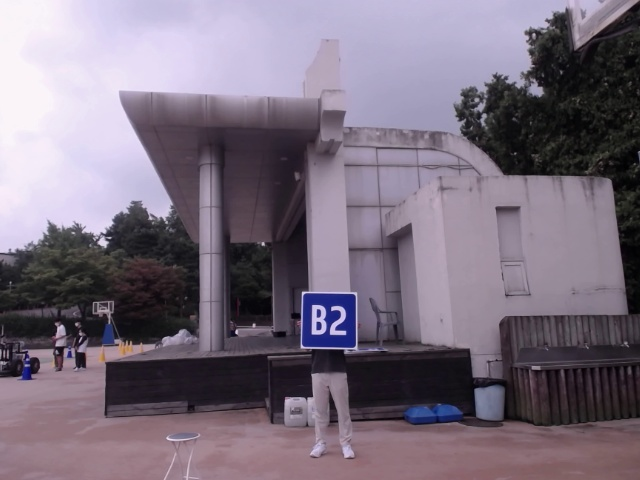delivery_b2: (300, 291, 357, 349)
